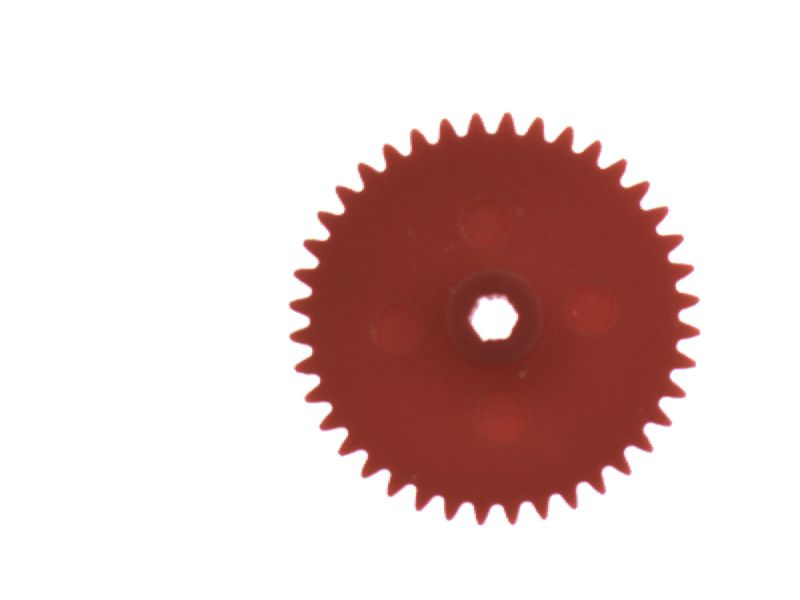good_product: (275, 103, 712, 534)
